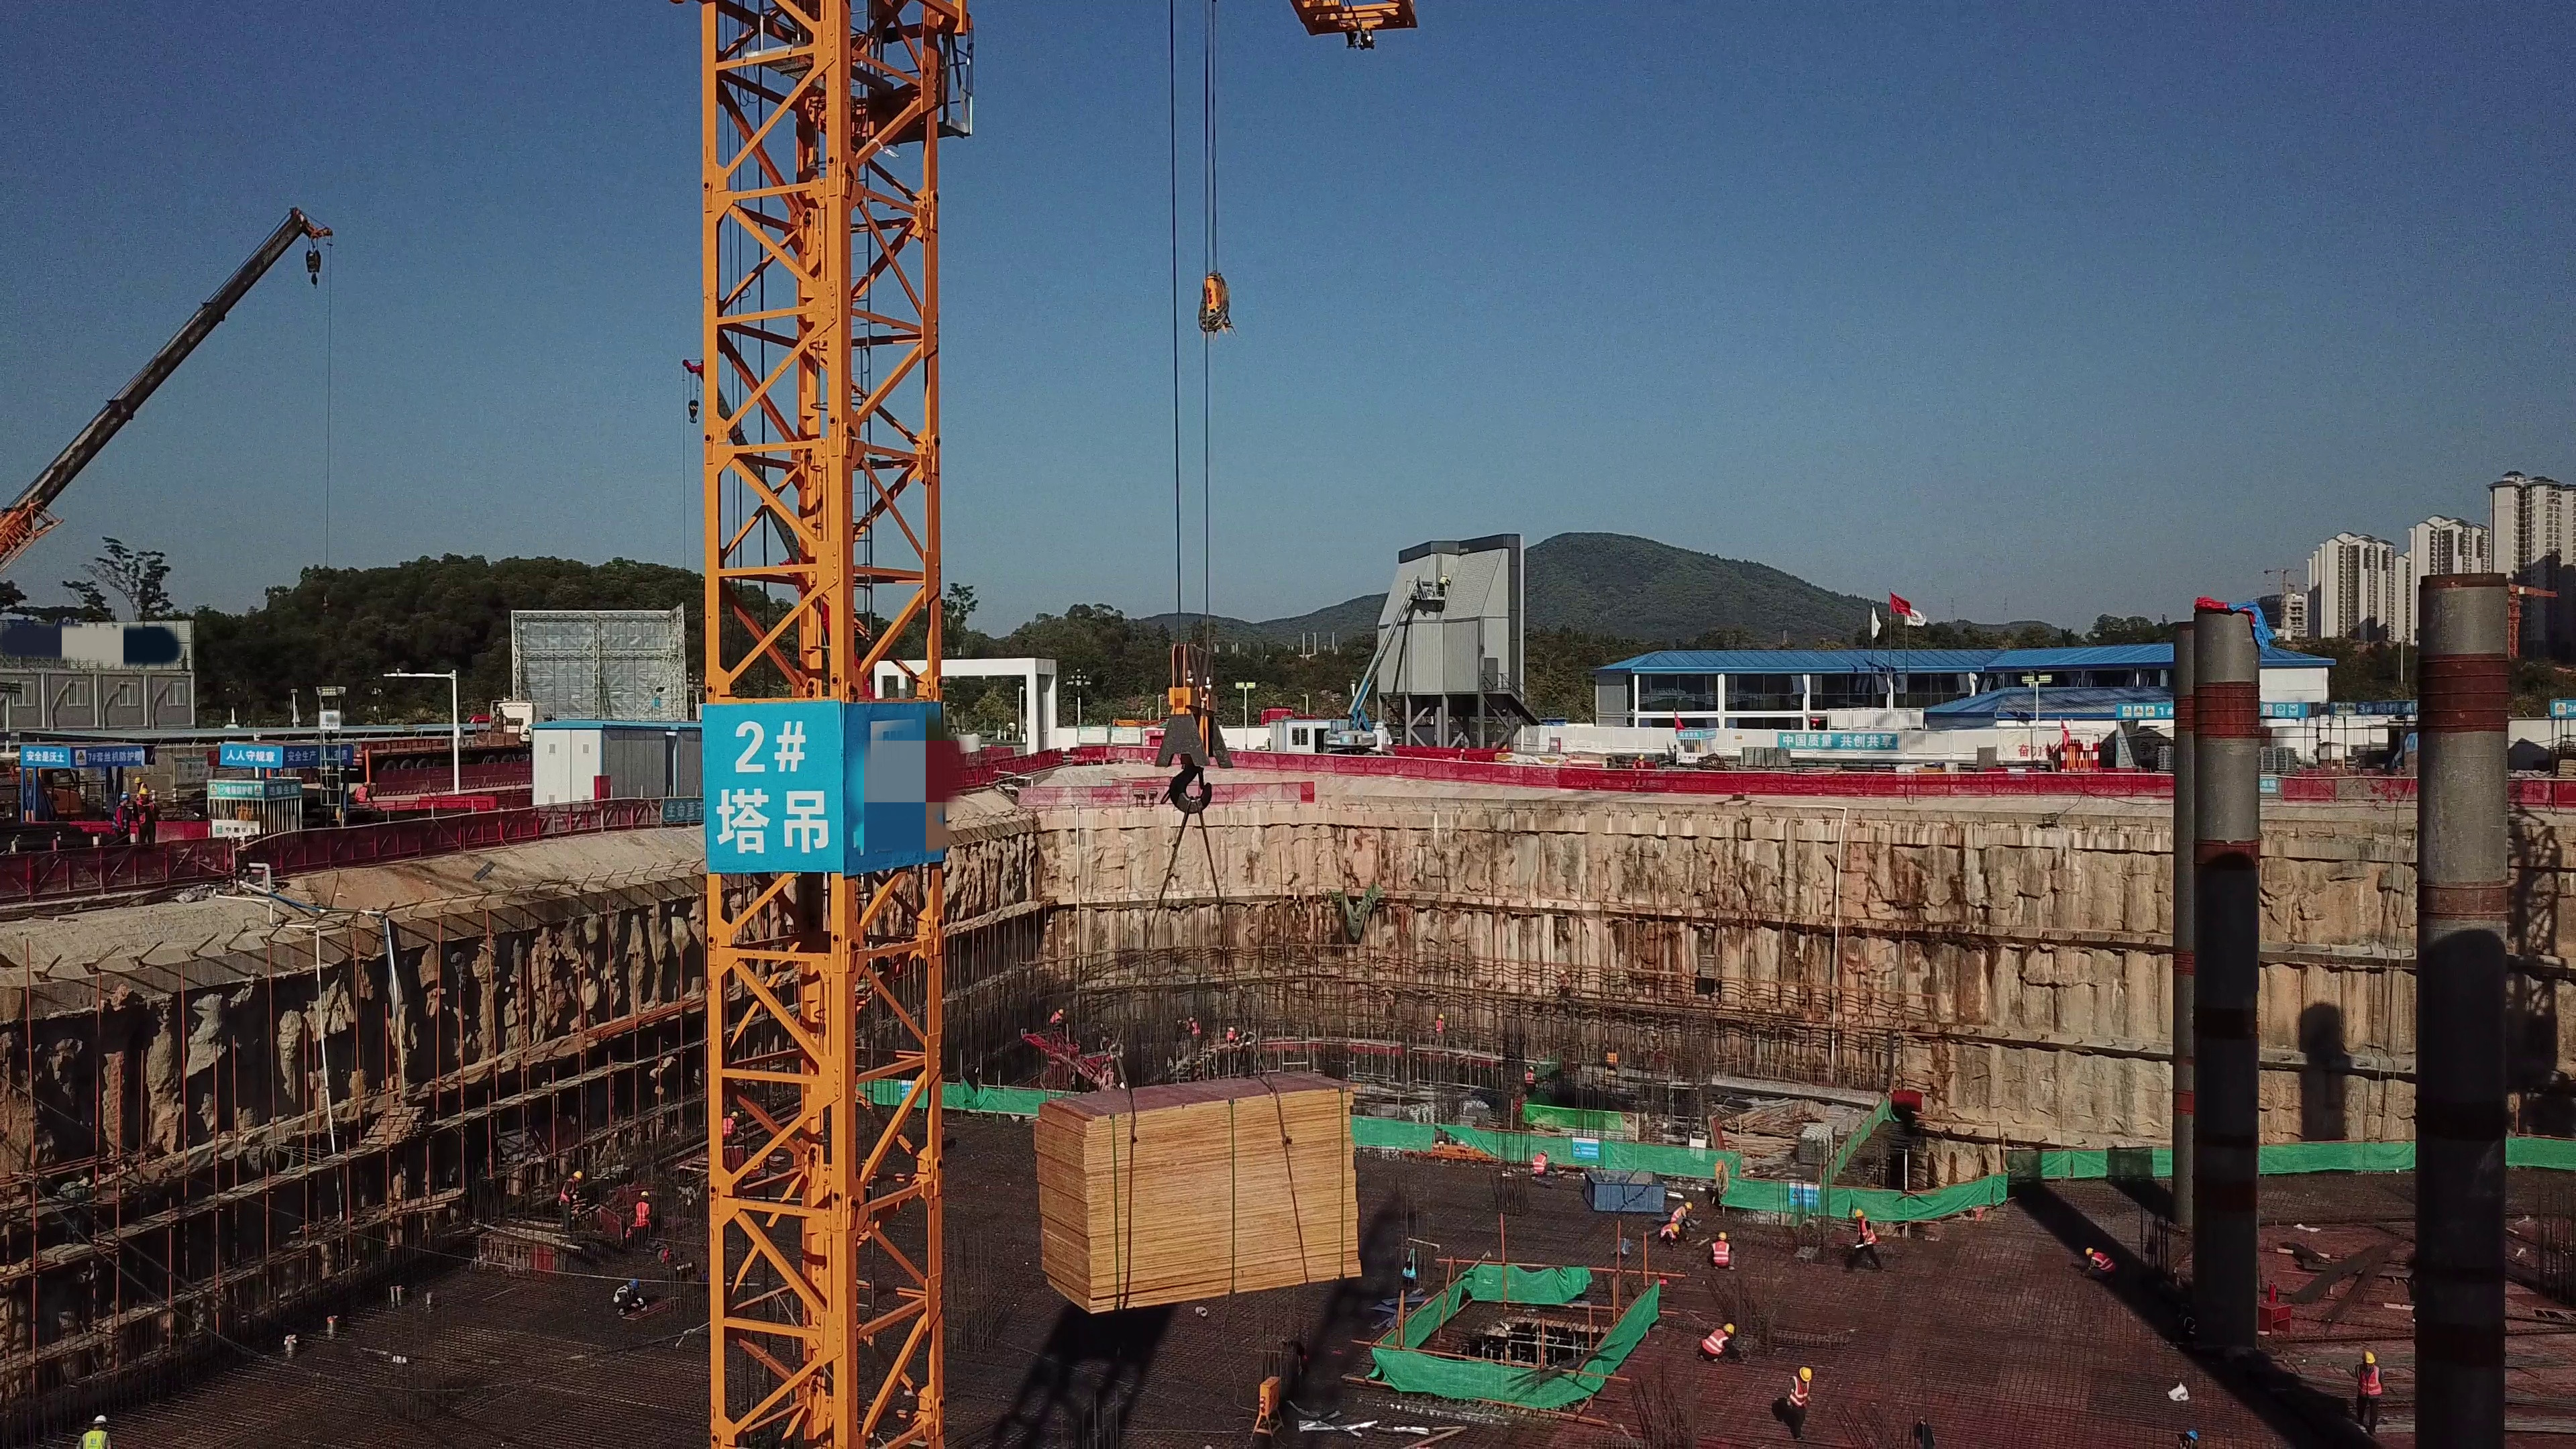helmet: (1797, 1366, 1813, 1383), (2361, 1350, 2375, 1364), (1724, 1324, 1736, 1338), (570, 1169, 585, 1181), (1852, 1206, 1865, 1218), (93, 1412, 106, 1421), (140, 786, 150, 797), (1716, 1232, 1728, 1240), (637, 1189, 651, 1196), (1538, 1149, 1551, 1157), (630, 1279, 639, 1289), (2084, 1246, 2094, 1256), (133, 775, 142, 784), (1684, 1201, 1693, 1210), (731, 1110, 741, 1118), (1525, 1066, 1534, 1073), (1672, 1224, 1680, 1233), (118, 794, 129, 799), (361, 780, 371, 786), (1638, 754, 1645, 759), (1187, 1018, 1195, 1023), (1436, 1013, 1444, 1017), (1226, 1027, 1235, 1032), (1460, 747, 1464, 752), (1058, 1009, 1064, 1014)
person: (2350, 1347, 2390, 1430), (1847, 1203, 1886, 1273), (1784, 1363, 1815, 1440), (1695, 1316, 1735, 1371), (557, 1167, 583, 1242), (630, 1190, 659, 1255), (611, 1277, 653, 1317), (72, 1409, 113, 1449), (1705, 1227, 1738, 1276), (2080, 1244, 2117, 1286), (133, 787, 157, 843), (716, 1106, 741, 1148), (114, 790, 133, 845), (1653, 1221, 1685, 1251), (1529, 1147, 1552, 1181), (1666, 1199, 1701, 1222), (1183, 1016, 1203, 1051), (1520, 1064, 1539, 1097), (352, 779, 376, 804), (1431, 1013, 1446, 1053), (1629, 751, 1651, 773), (1048, 1005, 1069, 1027), (128, 777, 150, 789), (1224, 1025, 1238, 1044), (1263, 735, 1273, 754), (1456, 748, 1468, 760)
vest: (2357, 1366, 2379, 1397), (1701, 1330, 1726, 1353), (80, 1430, 109, 1449), (2093, 1252, 2115, 1276), (1856, 1221, 1875, 1246), (138, 798, 155, 824), (559, 1179, 576, 1207), (1790, 1380, 1808, 1406), (636, 1201, 651, 1229), (115, 804, 129, 832), (1713, 1244, 1729, 1264), (612, 1287, 629, 1301), (355, 786, 369, 804), (1532, 1155, 1546, 1171), (1672, 1207, 1685, 1222), (1525, 1073, 1536, 1085), (1434, 1020, 1444, 1035), (1049, 1012, 1060, 1022), (1191, 1024, 1201, 1036), (1660, 1226, 1672, 1235), (1226, 1031, 1234, 1042), (1634, 761, 1645, 767), (1457, 753, 1464, 761)
